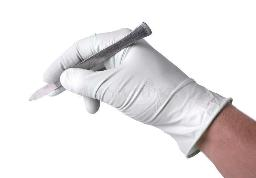scalpel: (28, 21, 152, 101)
